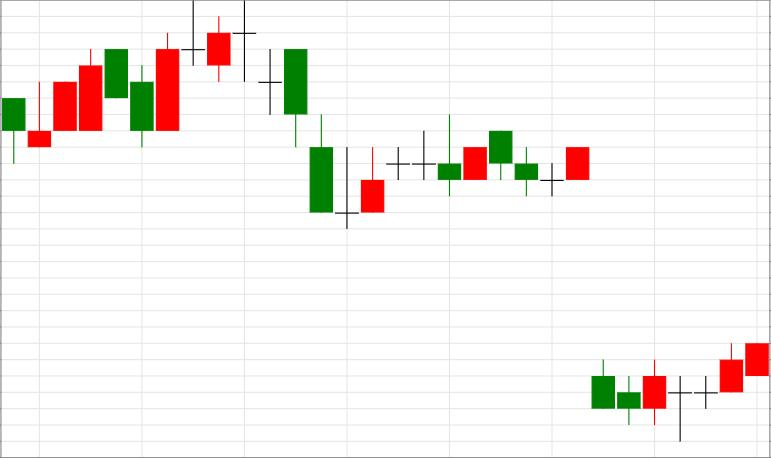morning_star_rise: (233, 0, 384, 229)
